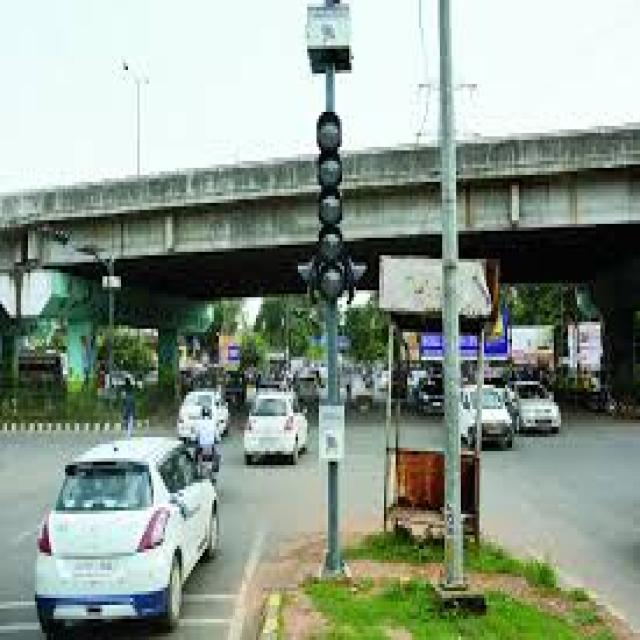car ahead at: (34, 436, 220, 629), (248, 387, 311, 472)
traffic signal ahead at: (305, 102, 356, 313)
